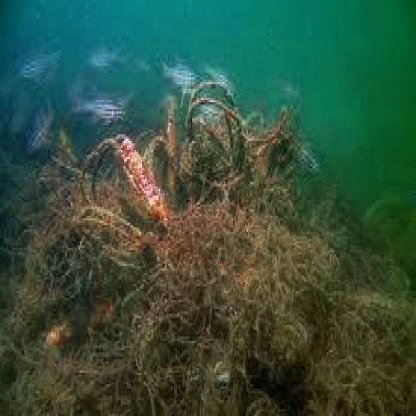net: (22, 159, 382, 412)
